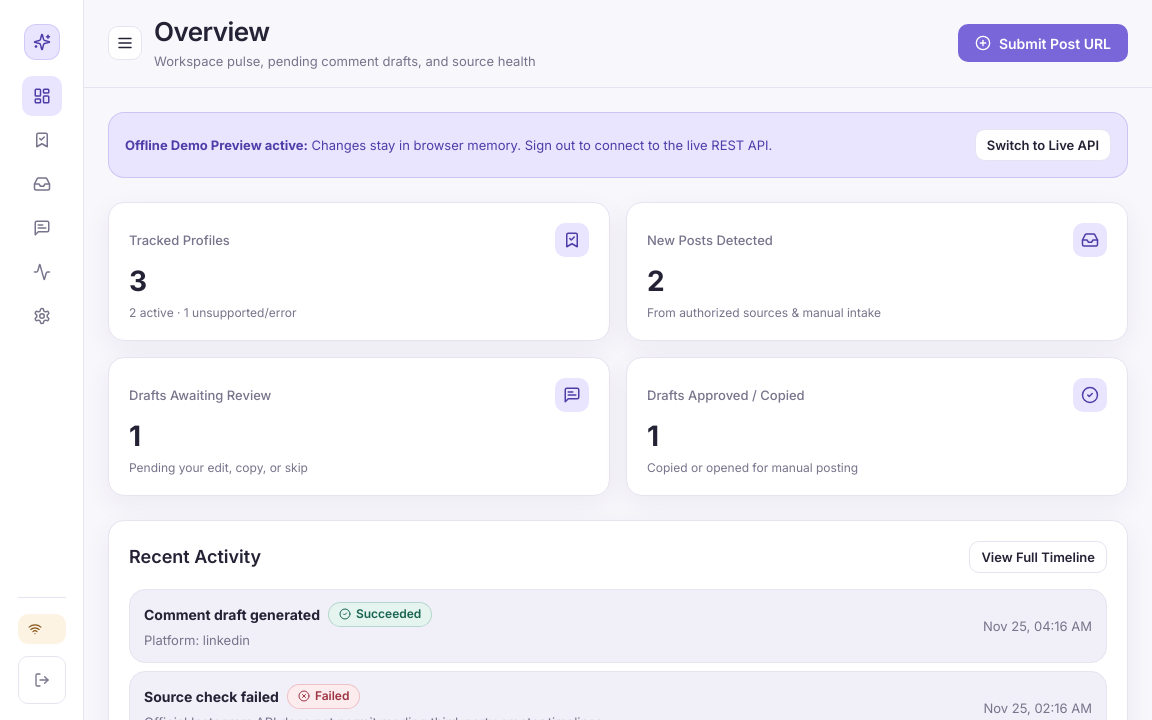
Test: SocialEngage AI Frontend › opens Manual Post modal from Topbar and submits a post with generated drafts
Expected: the heading "Overview" is shown, [154,16,270,47]
Click the button "Submit Post URL" at x=1043, y=43, box [958,24,1128,62]
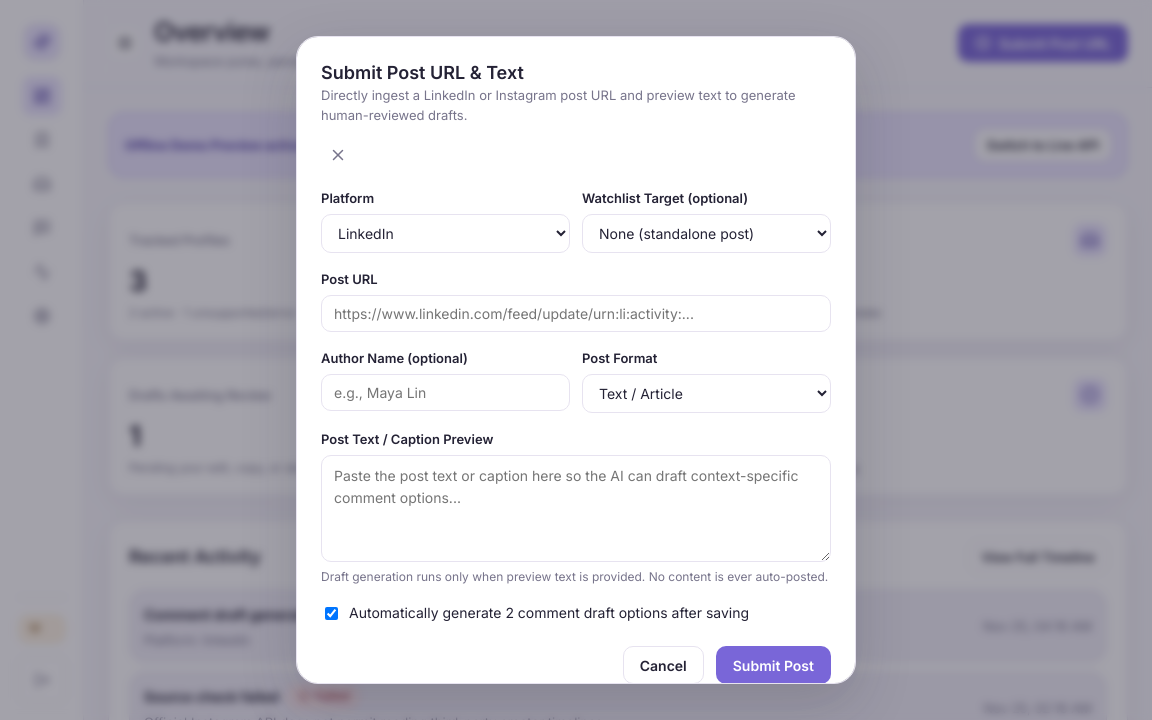
Expected: the heading "Submit Post URL & Text" is shown, [321,62,524,83]
Type "https://www.linkedin.com/feed/update/urn:li:activity:999999" into the field labelled "Post URL" at x=576, y=313, box [321,295,831,332]
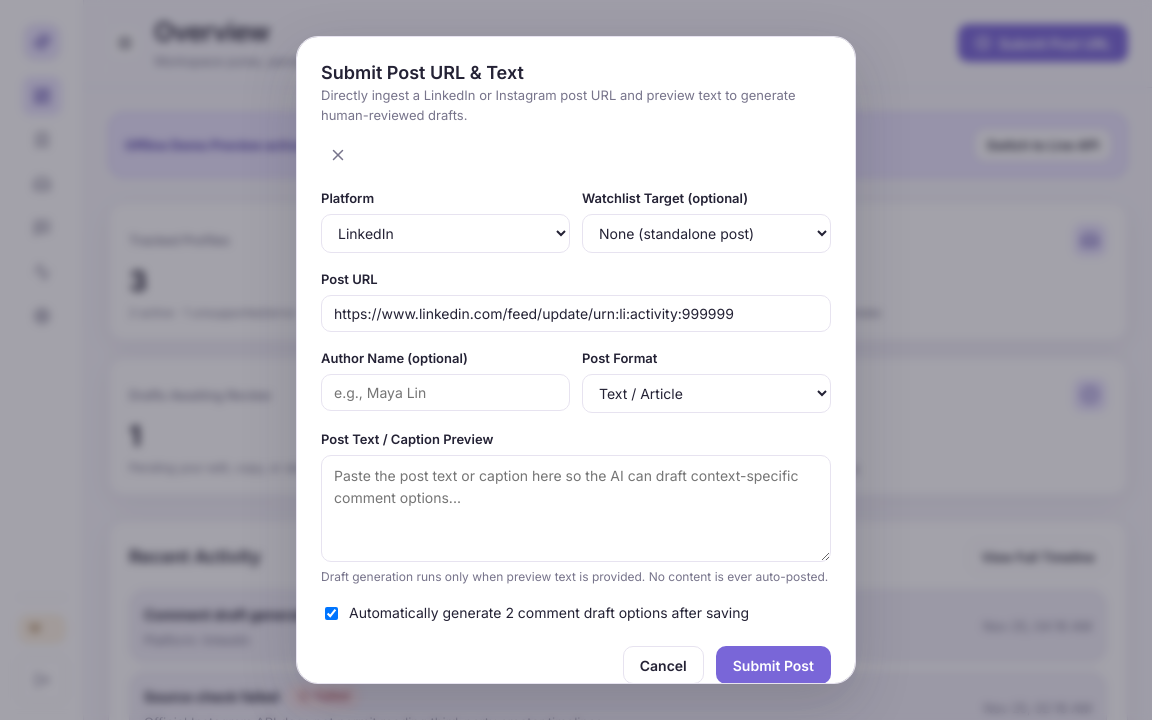
Type "Alex Rivera" into the field labelled "Author Name (optional)" at x=446, y=392, box [321,374,570,411]
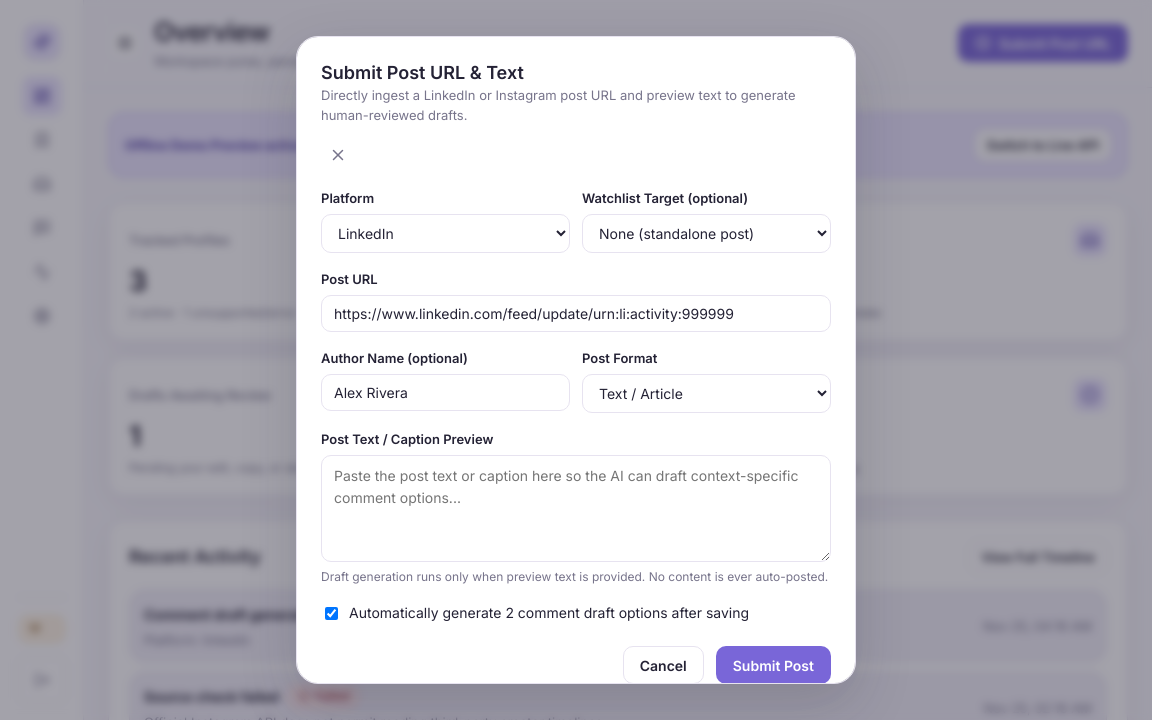
Replace the text in the text box labelled "Post Text / Caption Preview" with "Testing automated cloud cron workflows for engineering teams." at x=576, y=508, box [321,455,831,562]
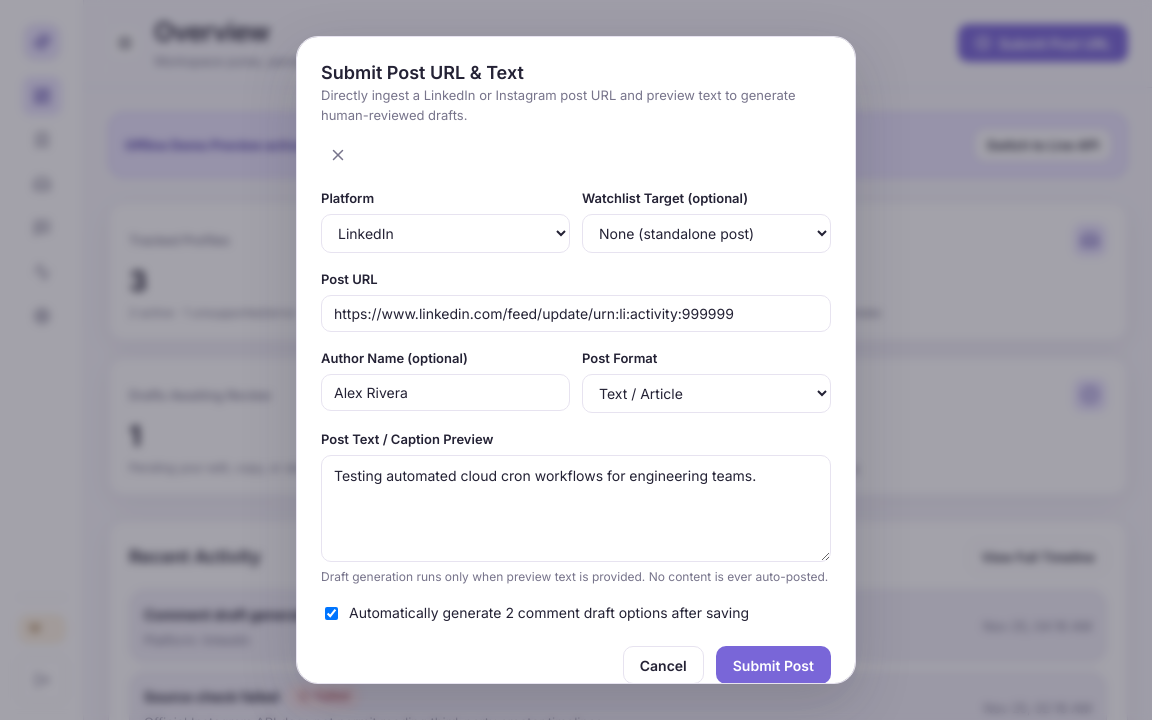
Click the button "Submit Post" at x=773, y=665, box [716,646,831,684]
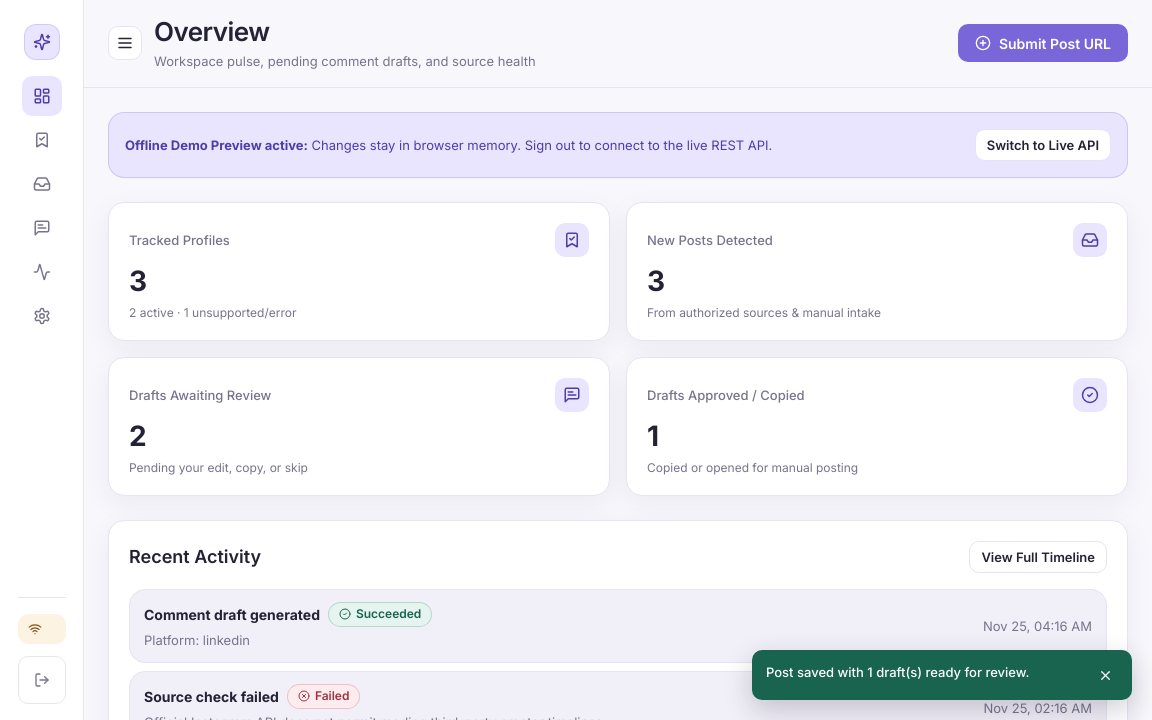
Expected: the dialog is gone
Expected: the text "Post saved with 1 draft(s) ready for review." is shown, [766,662,1030,682]
